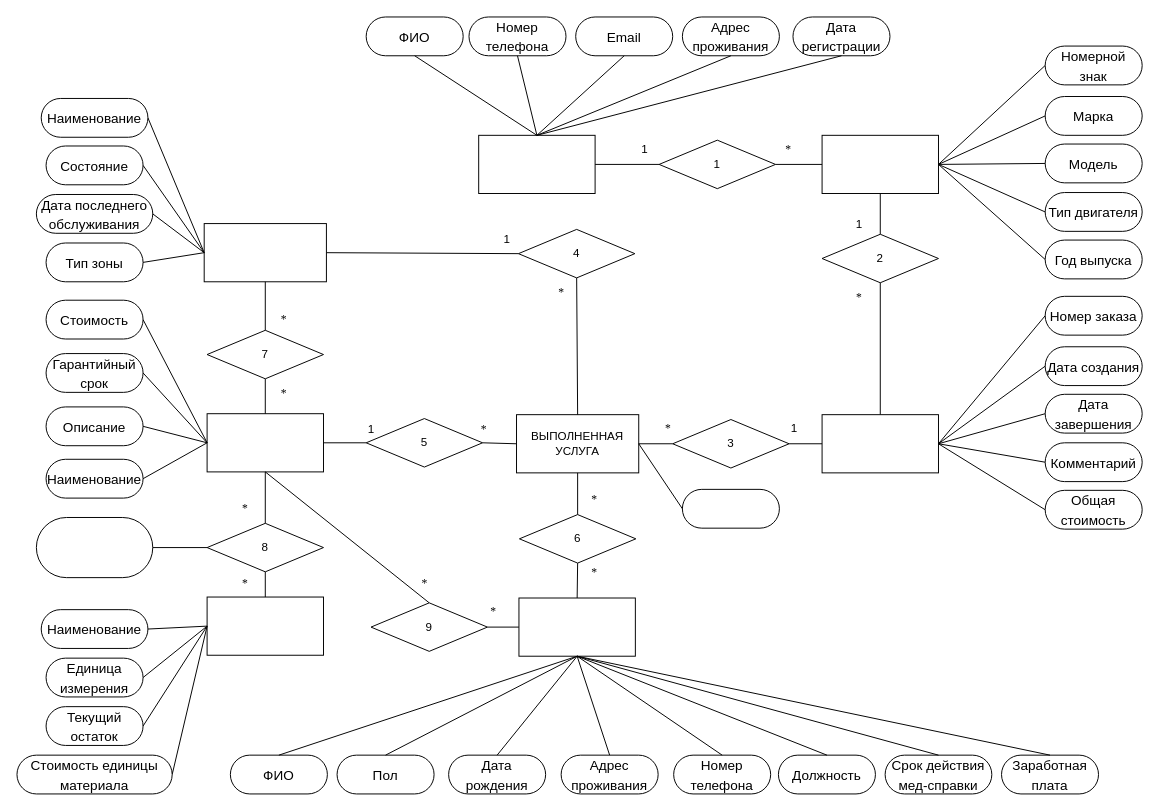
Some shapes in this 1159 by 811 pixel diagram are drawn without their labels. Each missing label, with the centre of its shape:
"АВТОМОБИЛЬ" belongs at point 879,164.
"Время проведения" belongs at point 730,508.
"ЗАКАЗ-НАРЯД" belongs at point 879,443.
"КЛИЕНТ" belongs at point 536,164.
"Количество расходного материала" belongs at point 94,547.
"РАБОЧАЯ ЗОНА" belongs at point 264,252.
"РАСХОДНЫЙ МАТЕРИАЛ" belongs at point 264,625.
"СОТРУДНИК" belongs at point 576,626.
"УСЛУГА" belongs at point 264,442.
